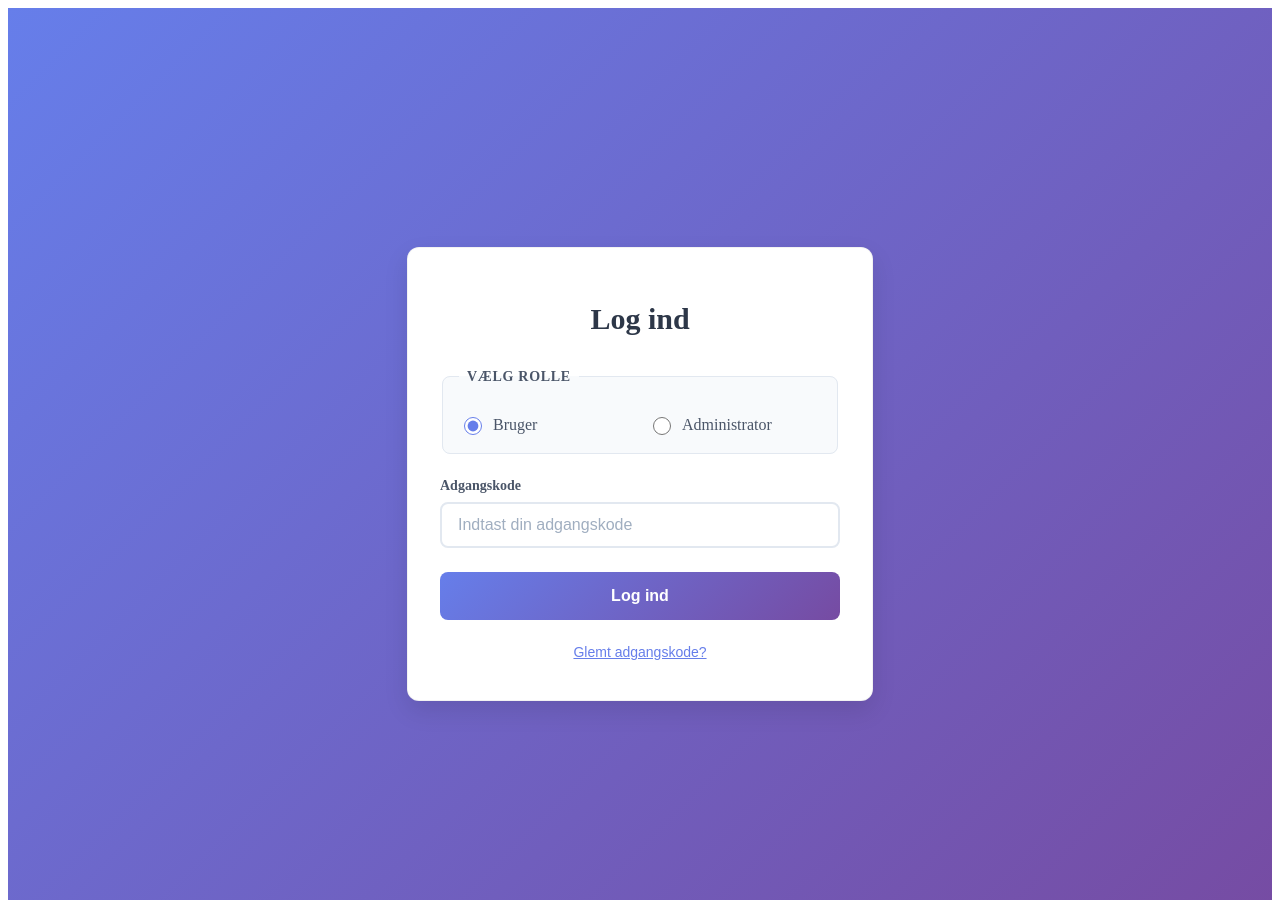
Test case: LoginForm › displays validation error for short password
Note: Enter password that's too short
In the password field with test id "password-input": (640, 524) [440, 502, 840, 548], type "12345"
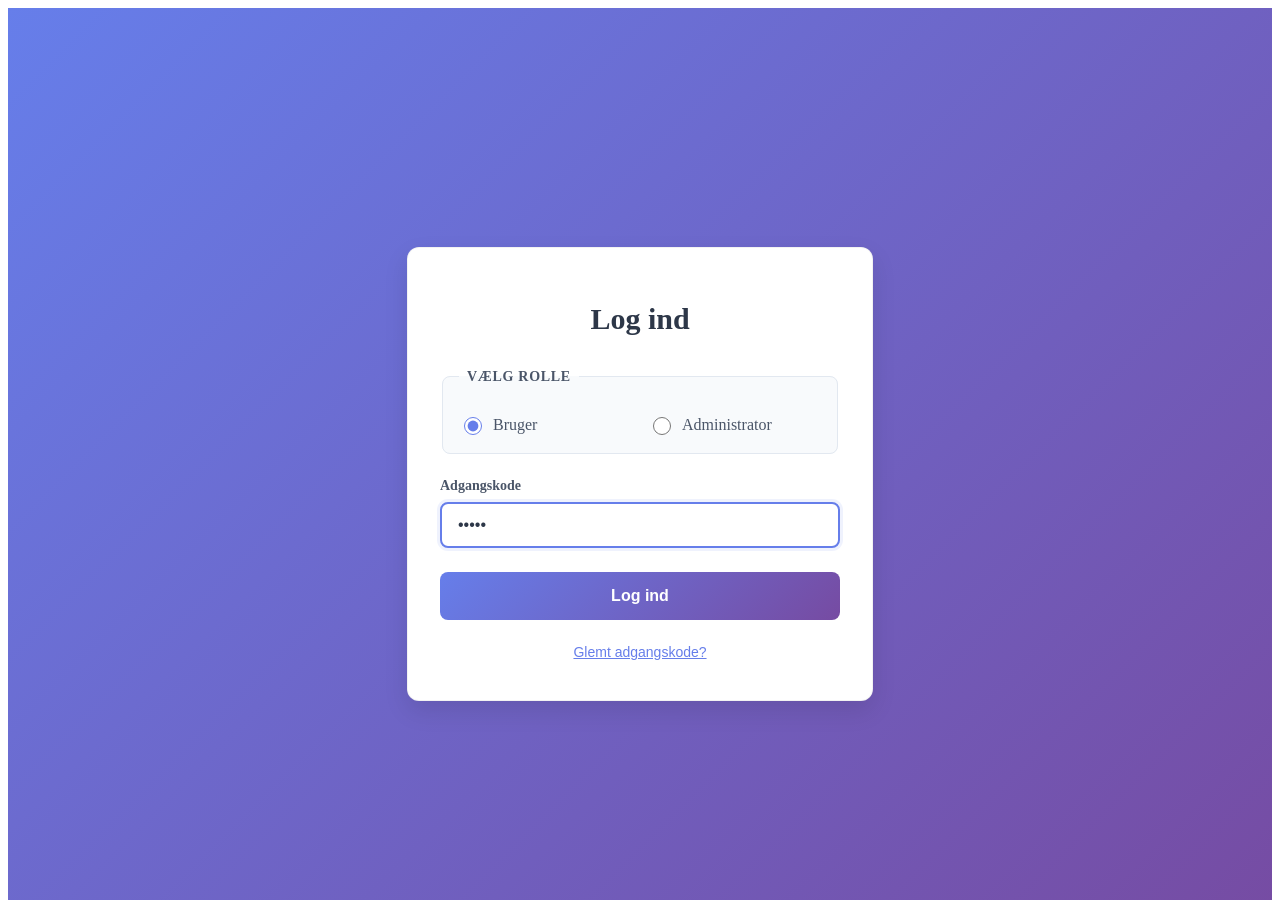
Note: Submit form
Click the button with test id "login-submit": (640, 596) [440, 572, 840, 620]
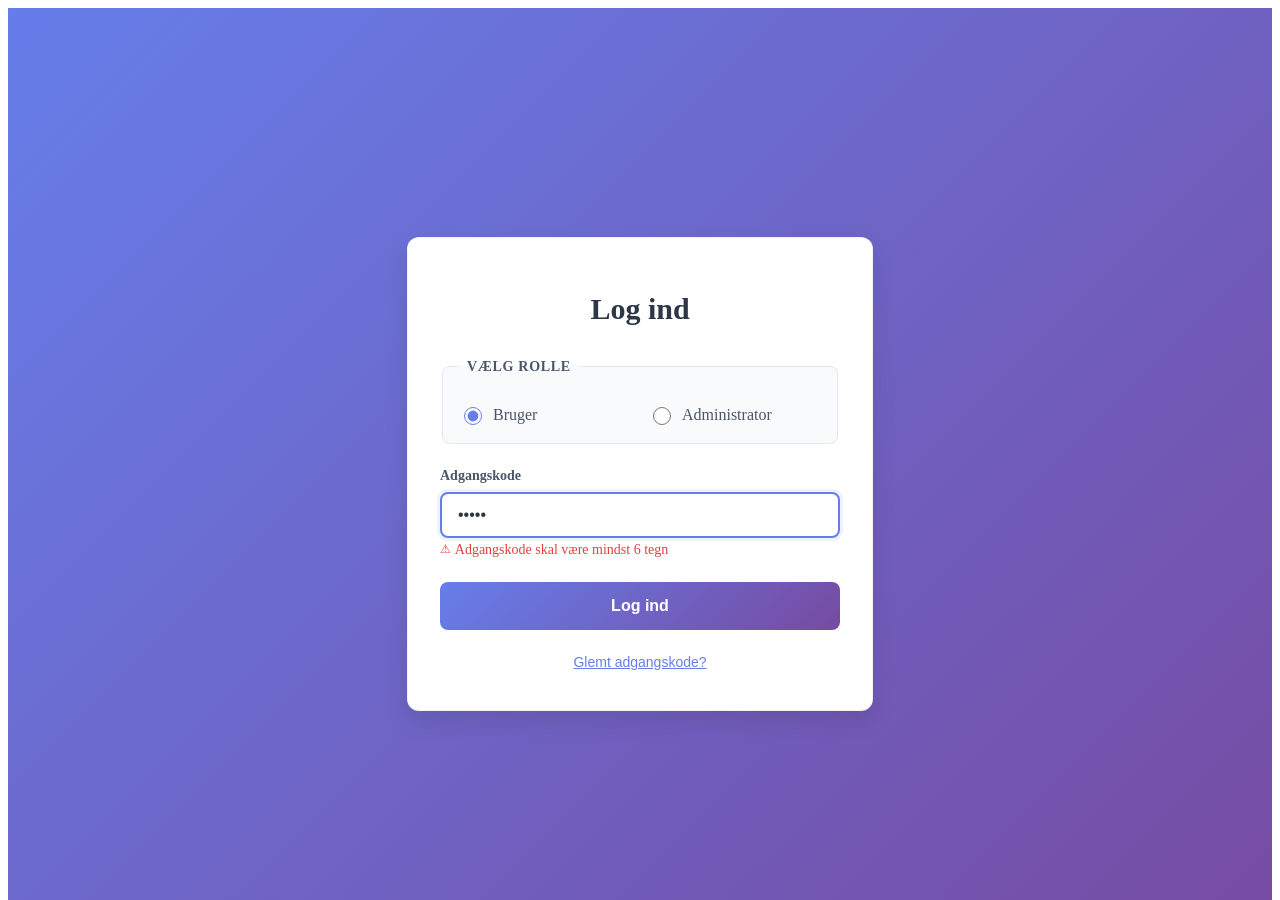
expect the text "Adgangskode skal være mindst 6 tegn" is shown: met, box [455, 542, 668, 556]
